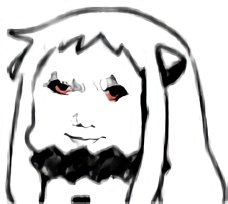dragon: (42, 72, 132, 146)
